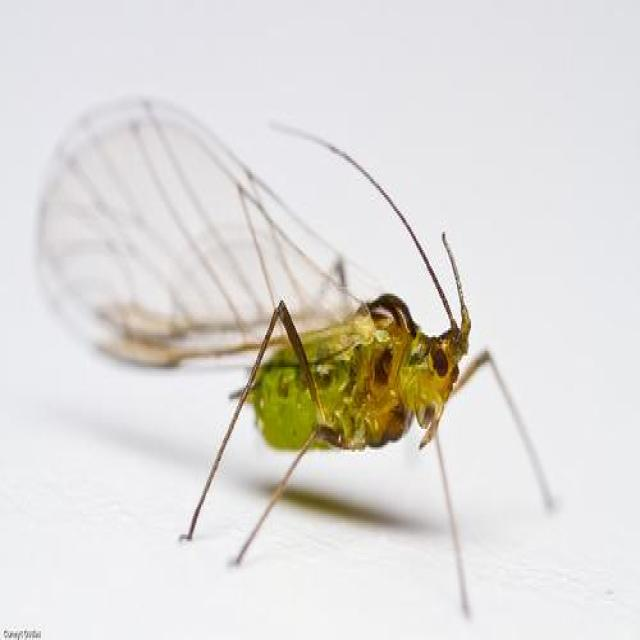Aphids: (37, 75, 565, 607)
